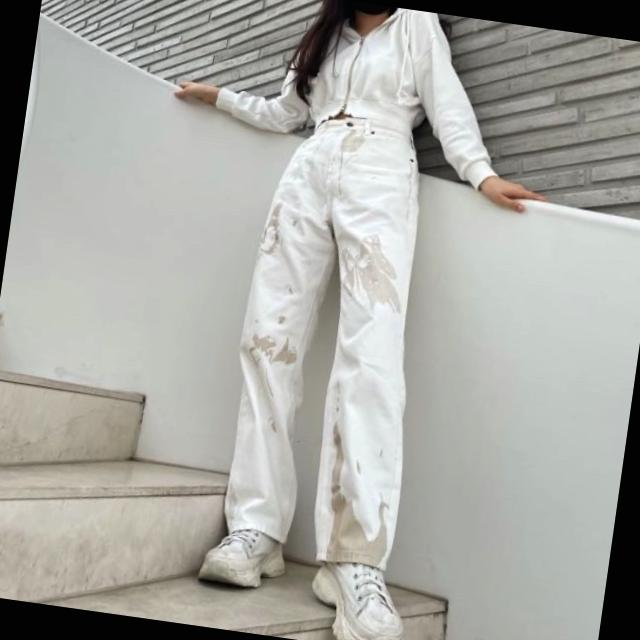denimpants: (211, 104, 452, 570)
zipup: (205, 0, 521, 193)
